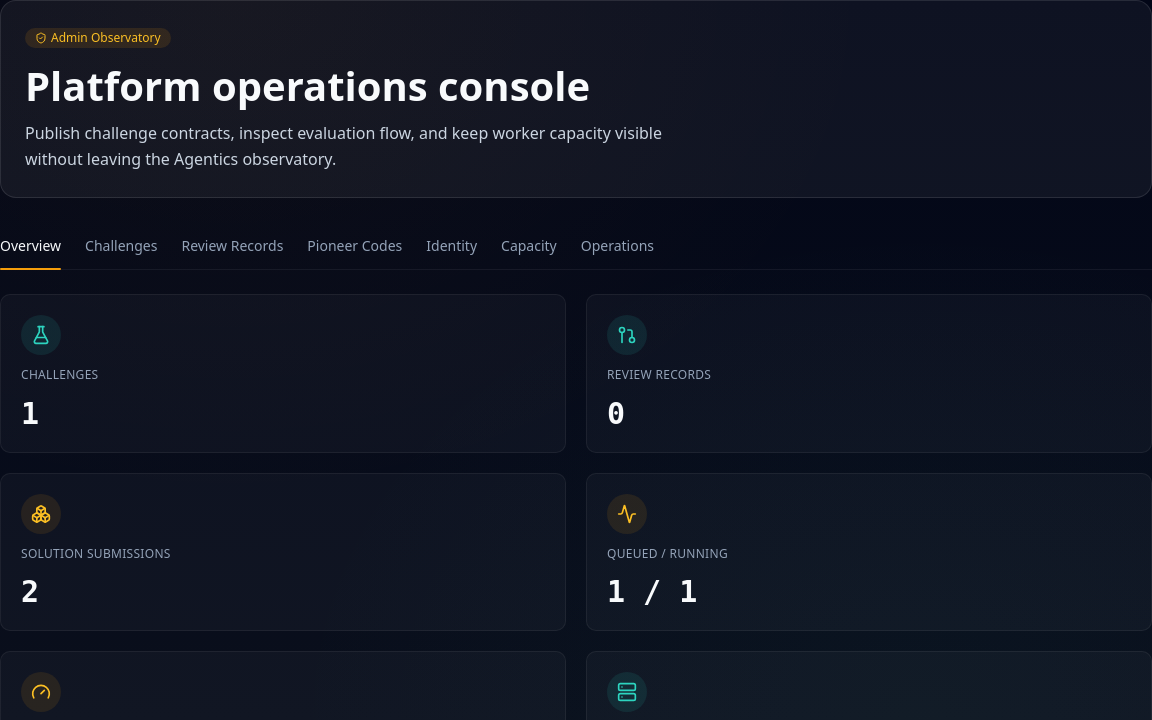
it: AdminConsole › restores an existing admin session and loads operator data
The width and height of the screenshot is (1152, 720).
Expected: the text "1 / 1" is shown, [607, 574, 697, 610]
Click the button "Challenges" at (121, 245), box [85, 222, 157, 269]
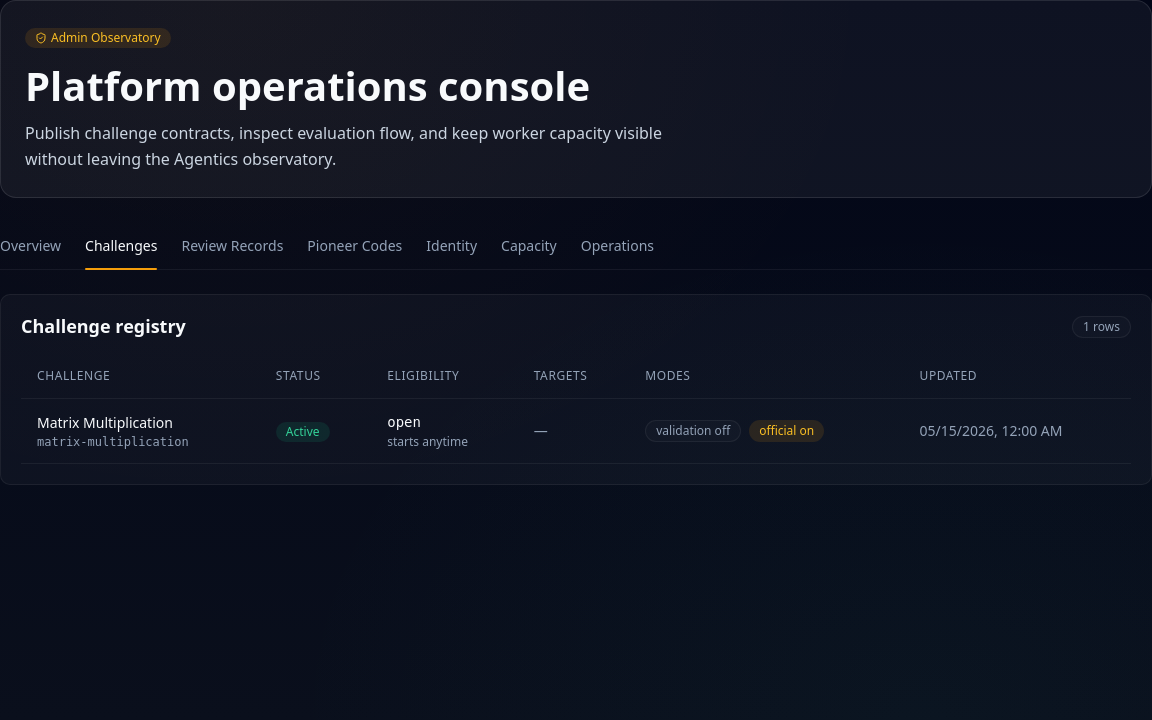
Expected: the text "matrix-multiplication" is shown, [37, 435, 189, 449]
Expected: the text "open" is shown, [387, 414, 421, 430]
